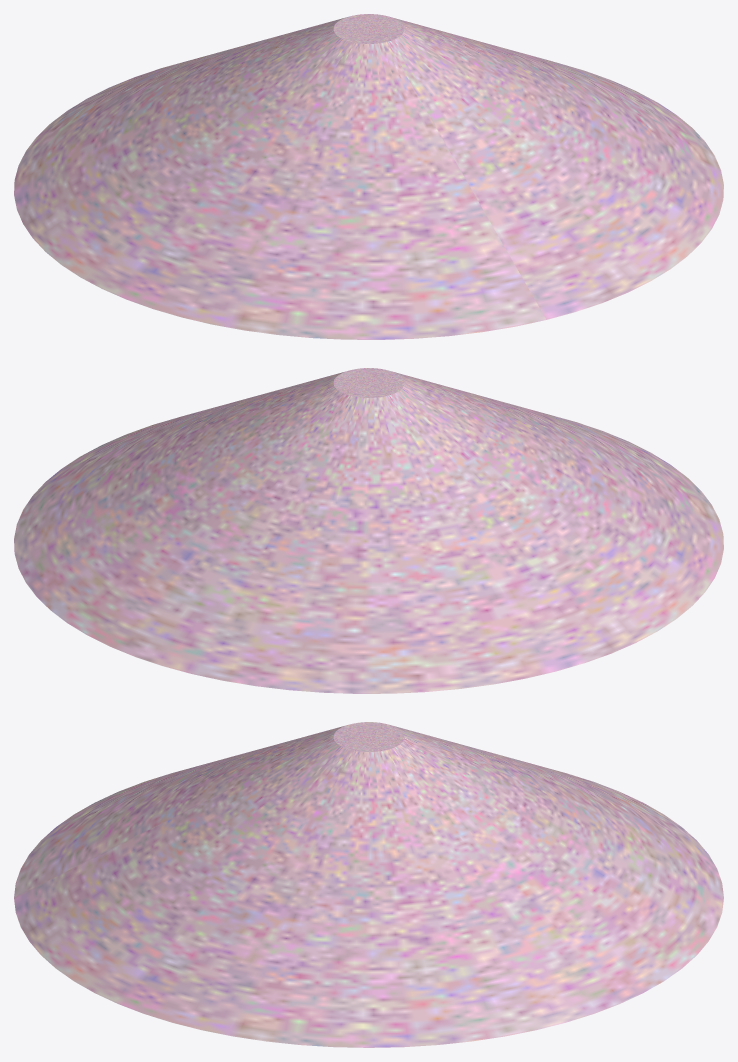
Rendered from quartz_dust.glb.
3 views of the same model, one above another, from view 1: azimuth 30°, elevation 25°; view 2: azimuth 150°, elevation 25°; view 3: azimuth 270°, elevation 25° (orthographic).
Parts seen in each view (by area): view 1: MeshInstance3D; view 2: MeshInstance3D; view 3: MeshInstance3D.
Boxes of the visible parts, bbox=[...] form: MeshInstance3D: bbox=[14, 14, 723, 339]; MeshInstance3D: bbox=[14, 368, 723, 693]; MeshInstance3D: bbox=[14, 722, 723, 1047].
Bounding box in the file's own units: 0.2 × 0.05 × 0.2.
1 material, 1 textured.
